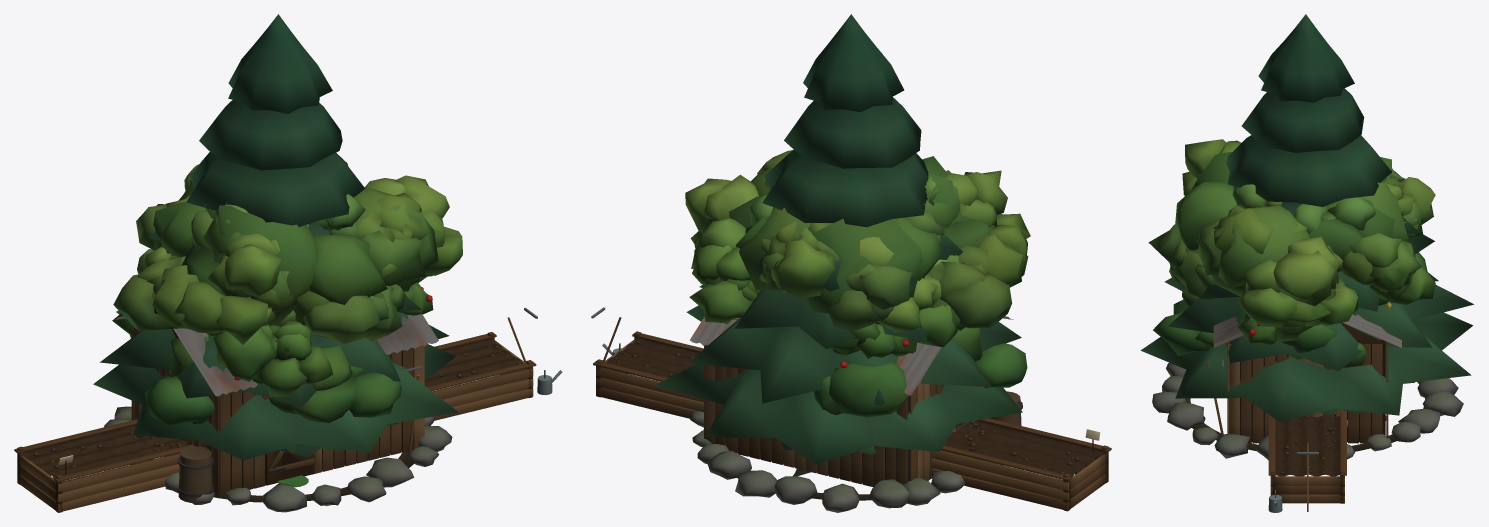
The model's file is garden.glb.
The picture shows the model from 3 angles, left to right: view 1: azimuth 30°, elevation 25°; view 2: azimuth 150°, elevation 25°; view 3: azimuth 270°, elevation 25°; orthographic projection. The views are drawn at different scales.
Visible parts, largest first — view 1: tree_fir, bed_1000x150_a, shed_420x320, oak_a, oak_c, tree_fig, tree_apple, forest_oak_a, bed_1000x150_b, pond, forest_oak_c, forest_oak_b (+2 smaller); view 2: tree_fir, bed_1000x150_a, oak_c, shed_420x320, oak_a, forest_oak_c, pond, bed_1000x150_b, tree_fig, tree_fruit, oak_b, tree_apple (+3 smaller); view 3: tree_fir, oak_a, shed_420x320, pond, forest_oak_b, oak_b, tree_fruit, bed_1000x150_b, bed_1000x150_a, tree_fig, forest_oak_c, forest_oak_a (+3 smaller).
Boxes of the visible parts, x1,y1,x2,y2 form: tree_fir: (93, 14, 458, 460); bed_1000x150_a: (14, 333, 562, 512); shed_420x320: (113, 314, 438, 502); oak_a: (152, 164, 462, 344); oak_c: (113, 180, 405, 344); tree_fig: (112, 313, 401, 424); tree_apple: (206, 277, 433, 399); forest_oak_a: (160, 204, 387, 325); bed_1000x150_b: (14, 307, 537, 512); pond: (104, 406, 452, 512); forest_oak_c: (153, 181, 316, 335); forest_oak_b: (203, 188, 438, 291); tree_fir: (654, 14, 1022, 464); bed_1000x150_a: (593, 333, 1111, 510); oak_c: (762, 212, 1012, 331); shed_420x320: (690, 316, 1022, 486); oak_a: (757, 150, 1030, 298); forest_oak_c: (729, 156, 995, 313); pond: (690, 410, 1002, 512); bed_1000x150_b: (591, 307, 1111, 511); tree_fig: (813, 327, 1027, 417); tree_fruit: (689, 218, 958, 324); oak_b: (685, 174, 947, 332); tree_apple: (760, 277, 1021, 457); tree_fir: (1141, 14, 1473, 422); oak_a: (1182, 139, 1435, 327); shed_420x320: (1206, 314, 1401, 443); pond: (1152, 362, 1463, 460); forest_oak_b: (1198, 180, 1408, 296); oak_b: (1273, 237, 1358, 326); tree_fruit: (1275, 218, 1435, 342); bed_1000x150_b: (1268, 413, 1346, 511); bed_1000x150_a: (1268, 413, 1346, 512); tree_fig: (1153, 252, 1427, 367); forest_oak_c: (1191, 152, 1394, 271); forest_oak_a: (1175, 174, 1236, 250).
Bounding box in the file's own units: 10.7 × 9.17 × 6.73.
